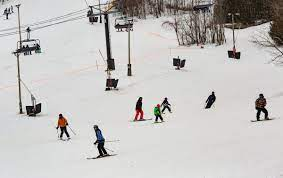skier: (86, 124, 121, 160), (52, 112, 78, 143), (126, 95, 152, 122), (201, 91, 218, 110), (153, 100, 165, 124), (163, 95, 173, 115)
snowboarder: (248, 93, 276, 124)
